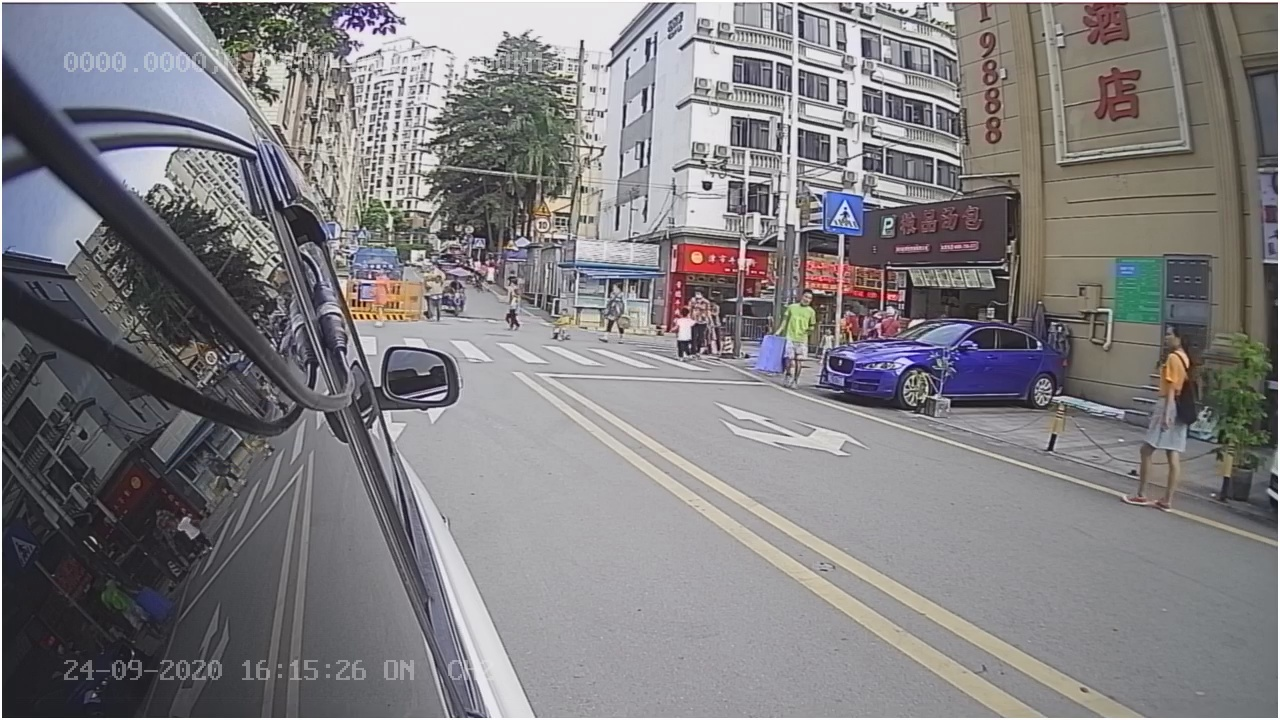person: (1105, 311, 1220, 526)
